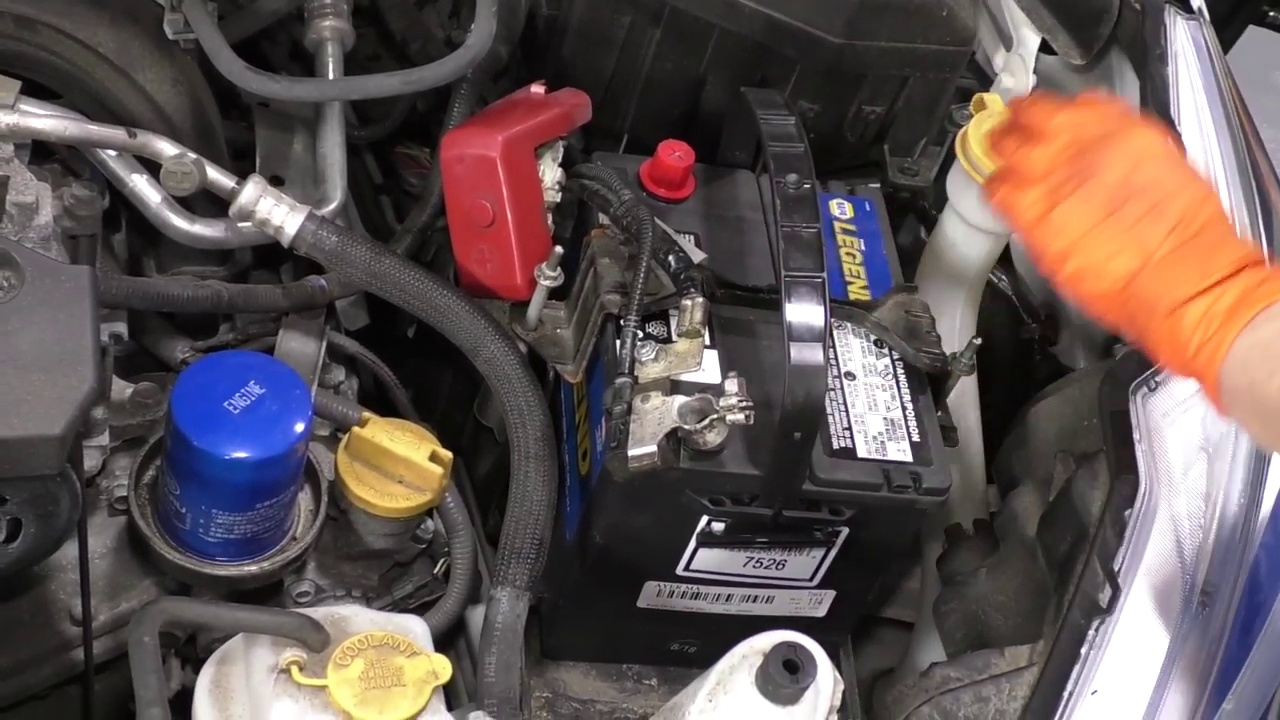battery: (572, 139, 966, 506)
pos_disconnected: (493, 108, 700, 240)
